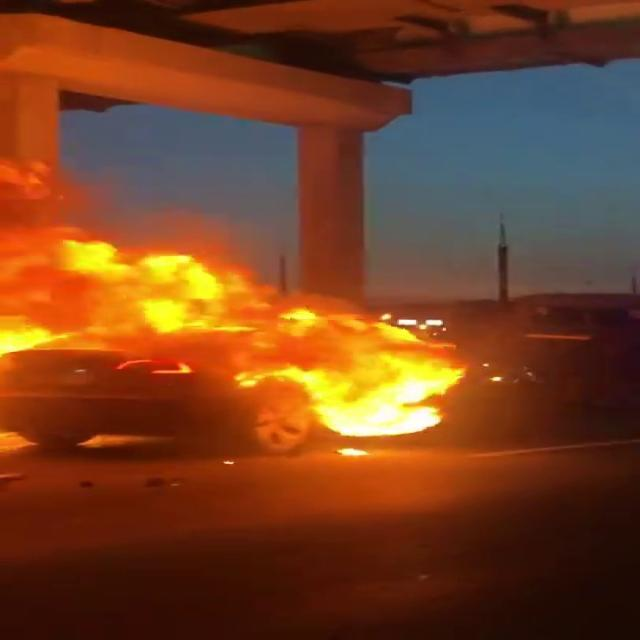Fire: (2, 226, 480, 453)
